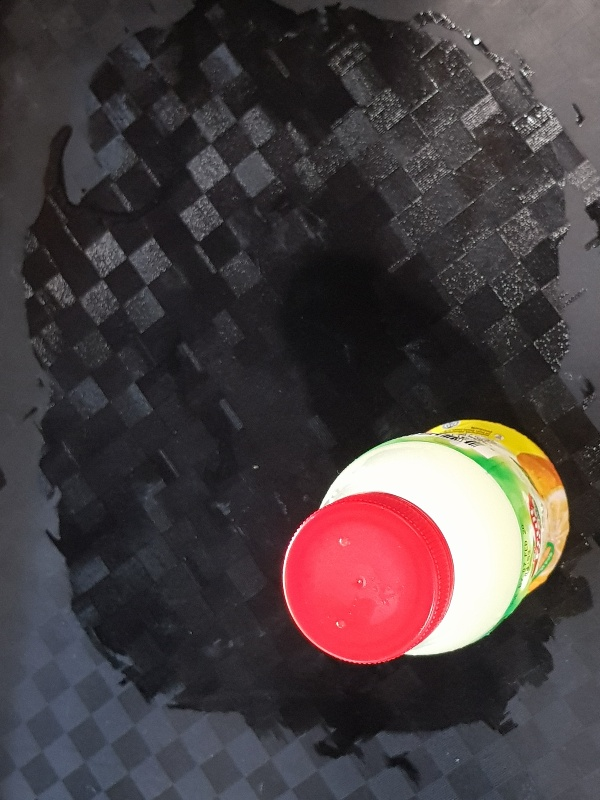Fruit Tree Yuzu Mixed Juice Drink: (278, 416, 574, 667)
